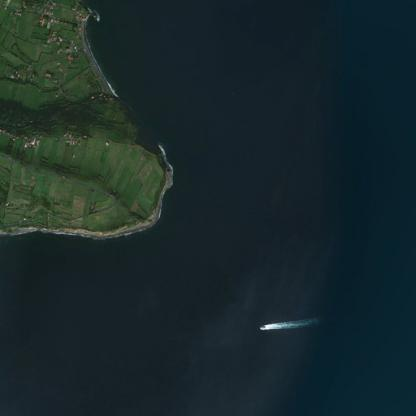ship: (258, 323, 266, 328)
